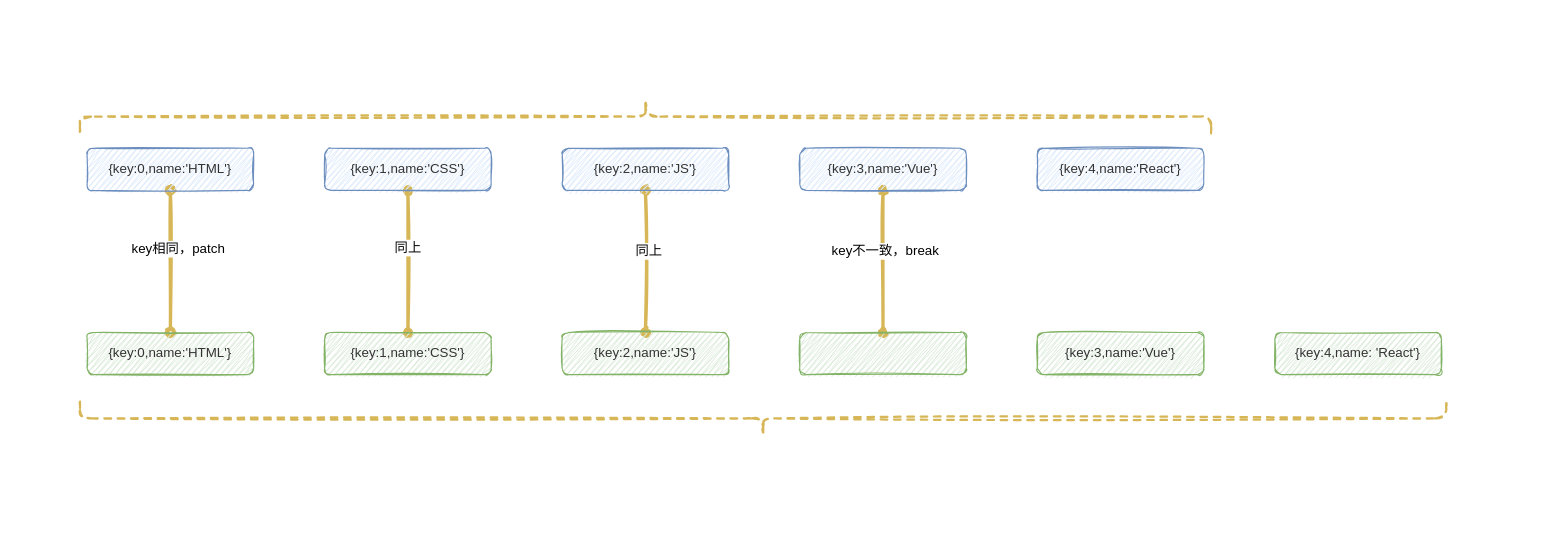
Some shapes in this 1554 by 536 pixel diagram are drawn without their labels. The centre of each missing label's shape, as x and y in pixels:
new VDOM: pixel 762 418
old VDOM: pixel 645 116
{ key :5,name:'Ajax' }: pixel 882 353
